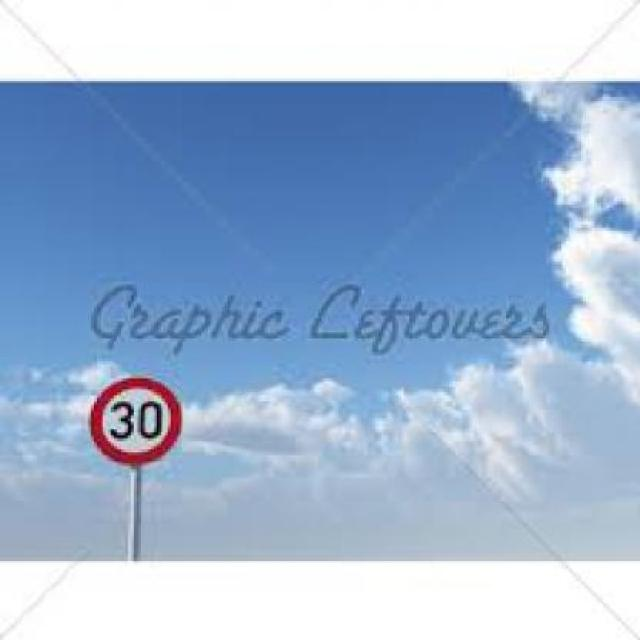forb_speed_over_30: (85, 376, 188, 475)
